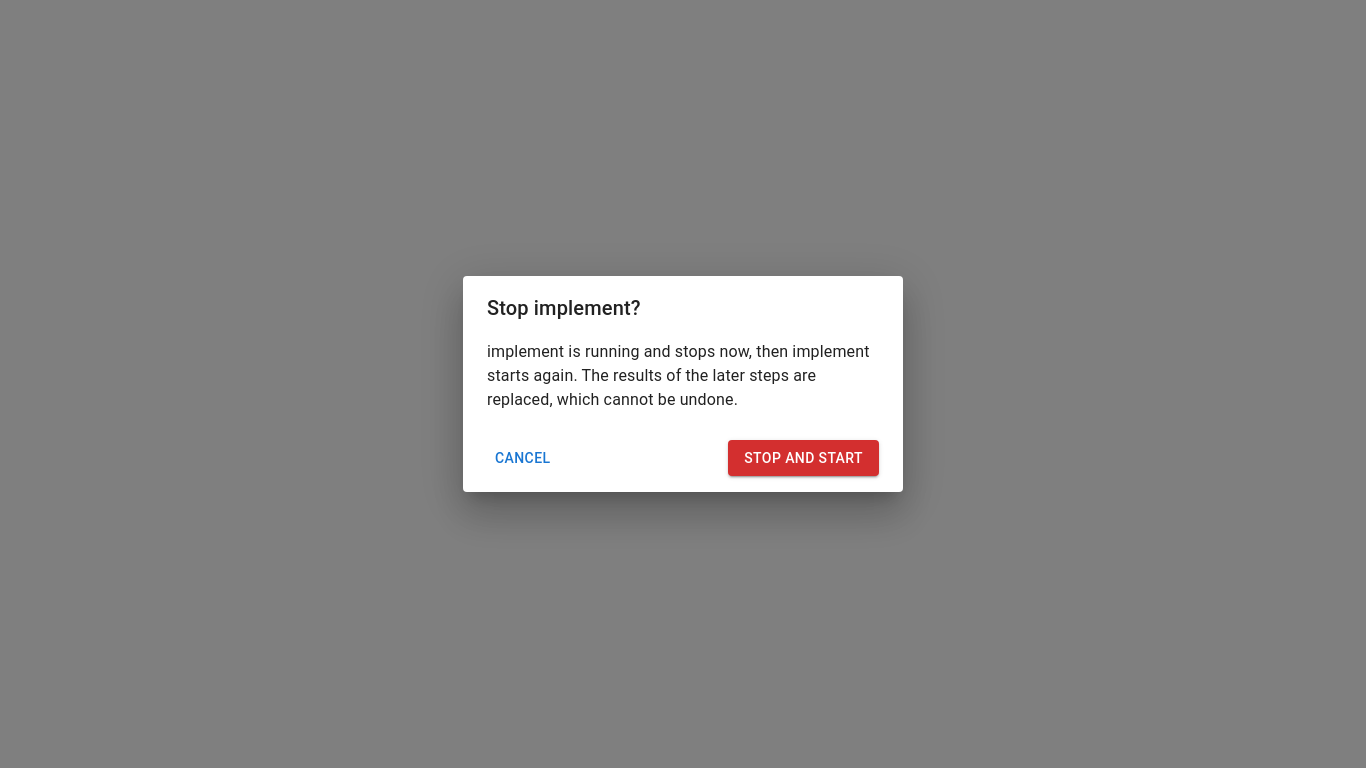
Test: RunDialogs › sends a failed replay to setError
Click the button "Stop and start" at {"x": 804, "y": 458}, box [728, 440, 879, 476]
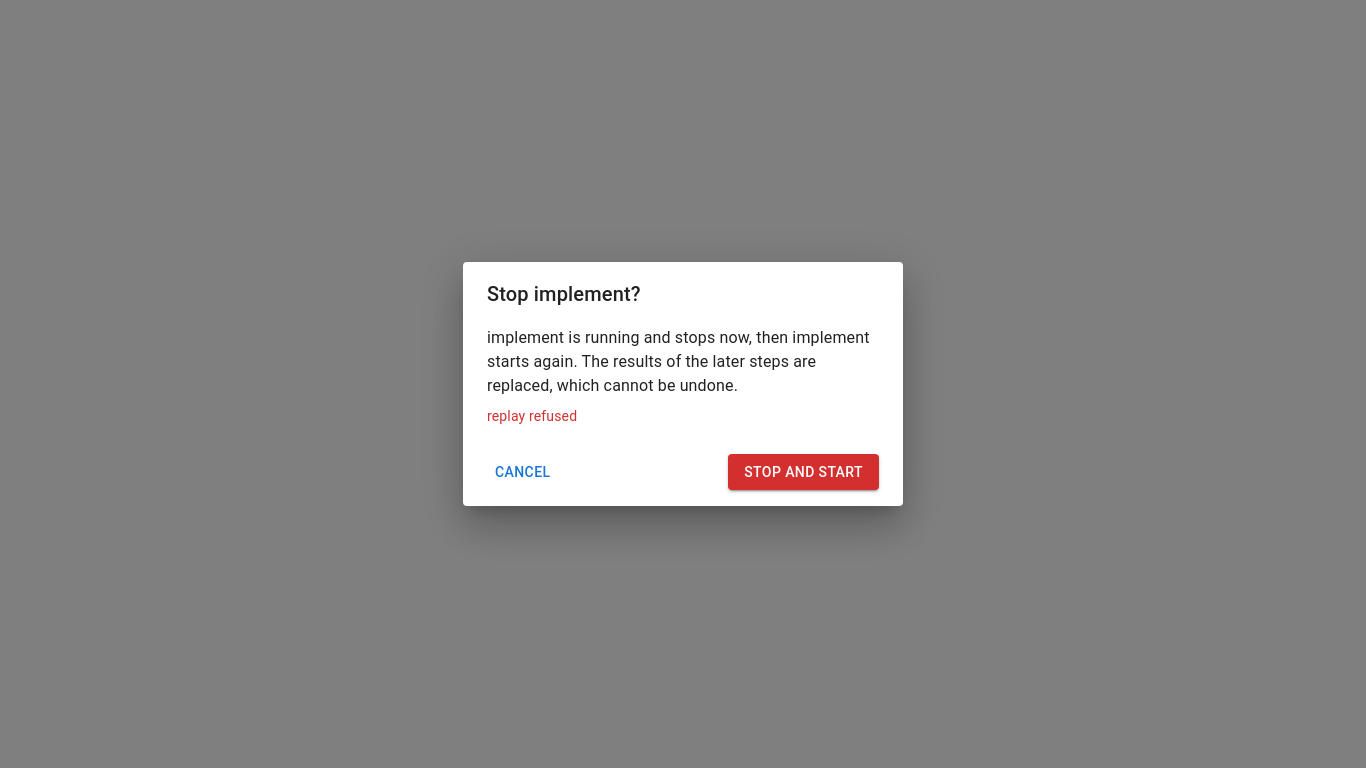
Check: the button "Stop and start" is enabled, box [728, 454, 879, 490]
Check: the text "replay refused" is shown, box [487, 408, 577, 424]
